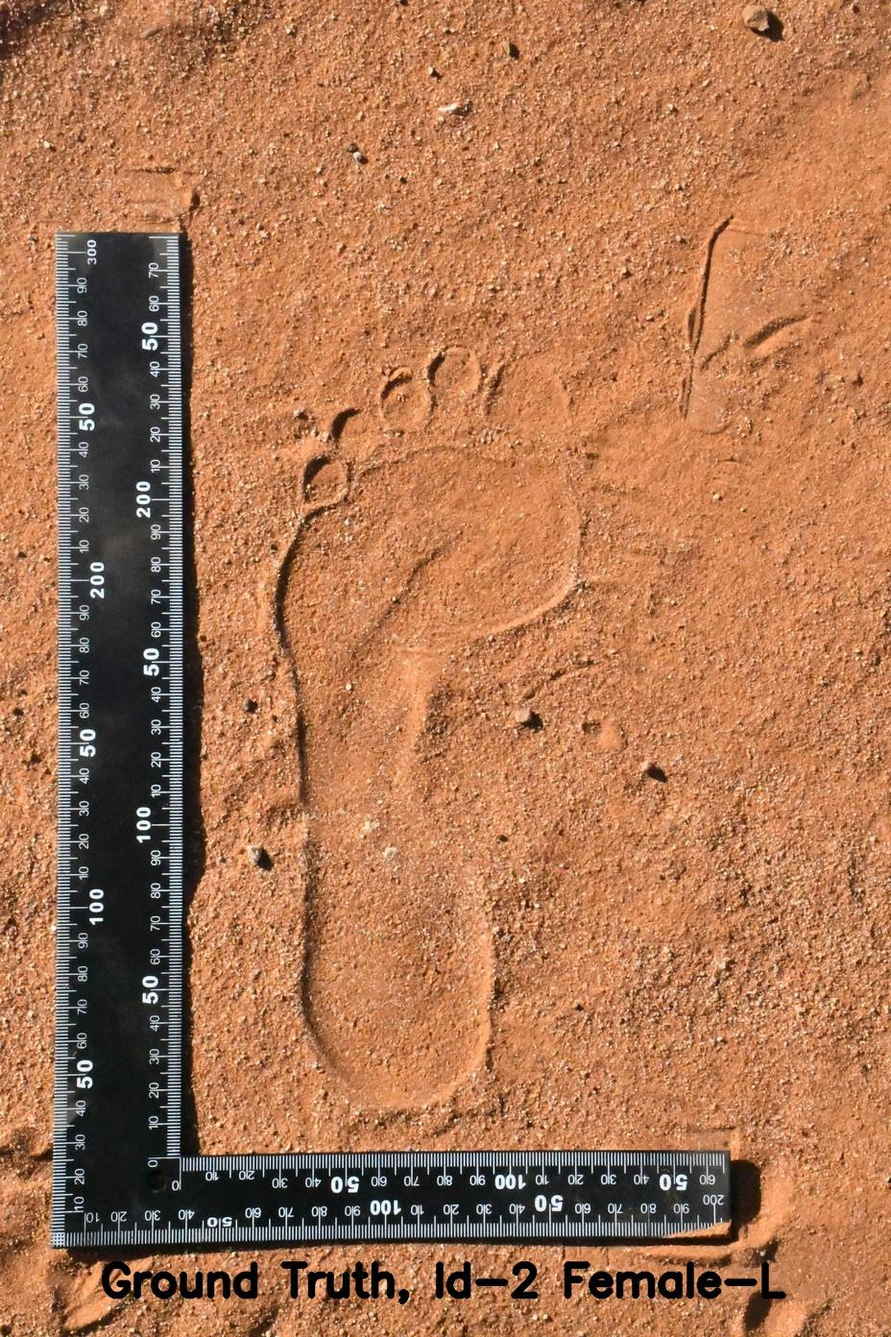human_foot_print: (243, 273, 641, 1124)
